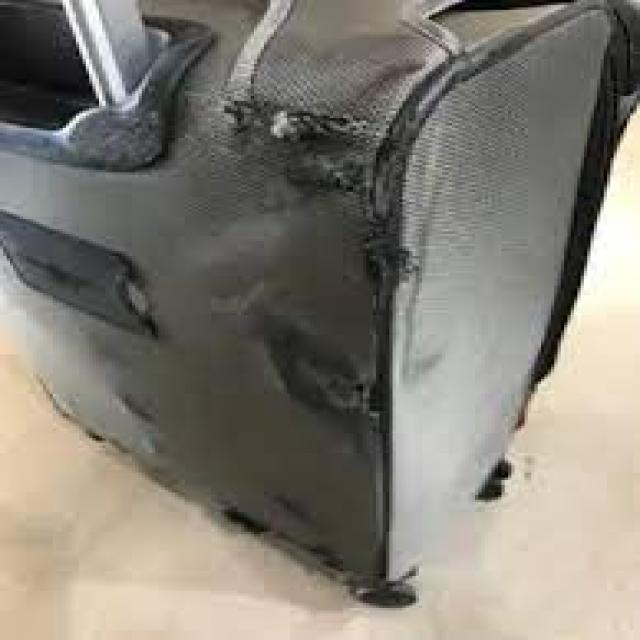Damage-bag: (223, 61, 456, 559), (211, 502, 268, 532), (268, 495, 308, 520), (121, 394, 156, 421), (50, 394, 80, 422), (85, 429, 107, 441), (147, 430, 157, 439)
